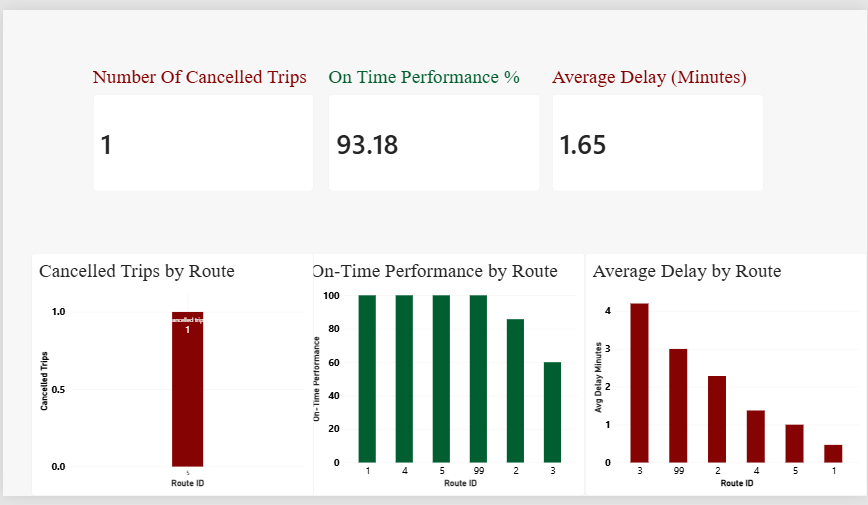

This screenshot's page, from the dashboard's own definition file:
{"tool":"powerbi","page":{"name":"Route Performance","canvas":[1920,1080],"ordinal":1},"visuals":[{"type":"cardVisual","title":"Number Of Cancelled Trips","fields":{"Data":["chennai_transport_analysis actual_trips.cancelled trips"]},"box":[200,123.3,490,280],"z":0},{"type":"cardVisual","title":"On Time Performance %","fields":{"Data":["chennai_transport_analysis actual_trips.on time performance %"]},"box":[723.3,123.3,470,280],"z":1000},{"type":"cardVisual","title":"Average Delay (Minutes)","fields":{"Data":["chennai_transport_analysis actual_trips.average delay (minutes)"]},"box":[1220,123.3,470,280],"z":2000},{"type":"clusteredColumnChart","title":"Average Delay by Route","fields":{"Category":["chennai_transport_analysis trip_schedules.route_id"],"Y":["chennai_transport_analysis actual_trips.average delay (minutes)"]},"box":[1293.3,540,626.7,540],"z":3000},{"type":"clusteredColumnChart","title":"On-Time Performance by Route","fields":{"Category":["chennai_transport_analysis trip_schedules.route_id"],"Y":["chennai_transport_analysis actual_trips.on time performance %"]},"box":[666.7,540,626.7,540],"z":4000},{"type":"clusteredColumnChart","title":"Cancelled Trips by Route","fields":{"Category":["chennai_transport_analysis trip_schedules.route_id"],"Y":["chennai_transport_analysis actual_trips.cancelled trips"]},"box":[63.3,540,626.7,540],"z":5000}]}

Visuals, with their boxes on the page's 1920x1080 design canvas (x1, y1, x2, y2). These are canvas units, not pixel positions in the 868x505 screenshot, which may show the page scaled, cropped or inside an application window:
"Number Of Cancelled Trips" cardVisual: 200, 123, 690, 403
"On Time Performance %" cardVisual: 723, 123, 1193, 403
"Average Delay (Minutes)" cardVisual: 1220, 123, 1690, 403
"Average Delay by Route" clusteredColumnChart: 1293, 540, 1920, 1080
"On-Time Performance by Route" clusteredColumnChart: 667, 540, 1293, 1080
"Cancelled Trips by Route" clusteredColumnChart: 63, 540, 690, 1080
